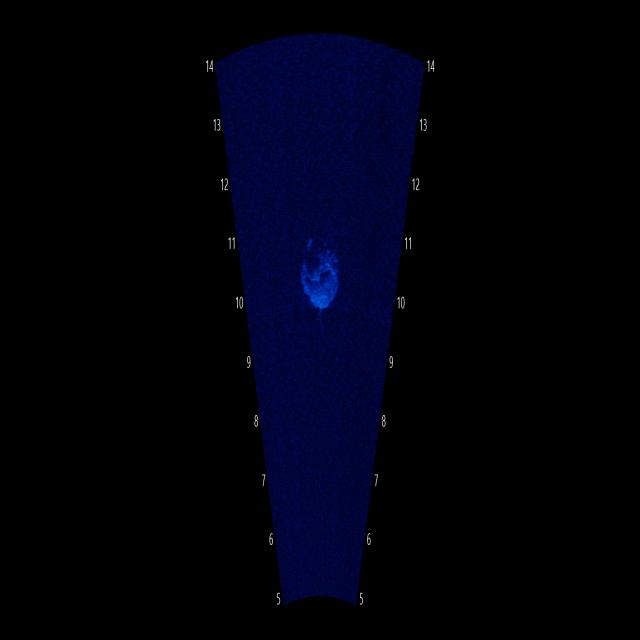circle: (290, 212, 344, 326)
